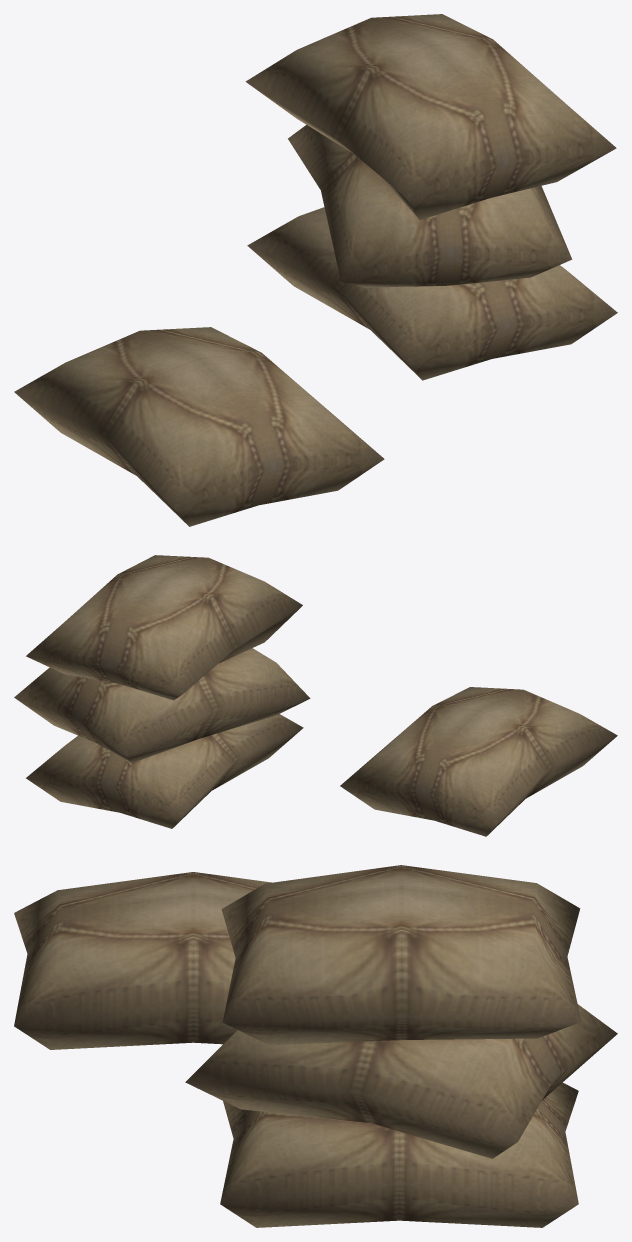
File: Map_04_bag01.FBX
3 renders of one model, top to bottom at view 1: azimuth 30°, elevation 25°; view 2: azimuth 150°, elevation 25°; view 3: azimuth 270°, elevation 25°, orthographic. The views are drawn at different scales.
Visible parts, largest first — view 1: Map_04_bag01; view 2: Map_04_bag01; view 3: Map_04_bag01.
Boxes of the visible parts, left/top/right/bottom form: Map_04_bag01: left=14, top=14, right=617, bottom=526; Map_04_bag01: left=14, top=555, right=617, bottom=836; Map_04_bag01: left=14, top=865, right=617, bottom=1227.
Size of the model in its own units: 17.25 by 7.68 by 14.06.
